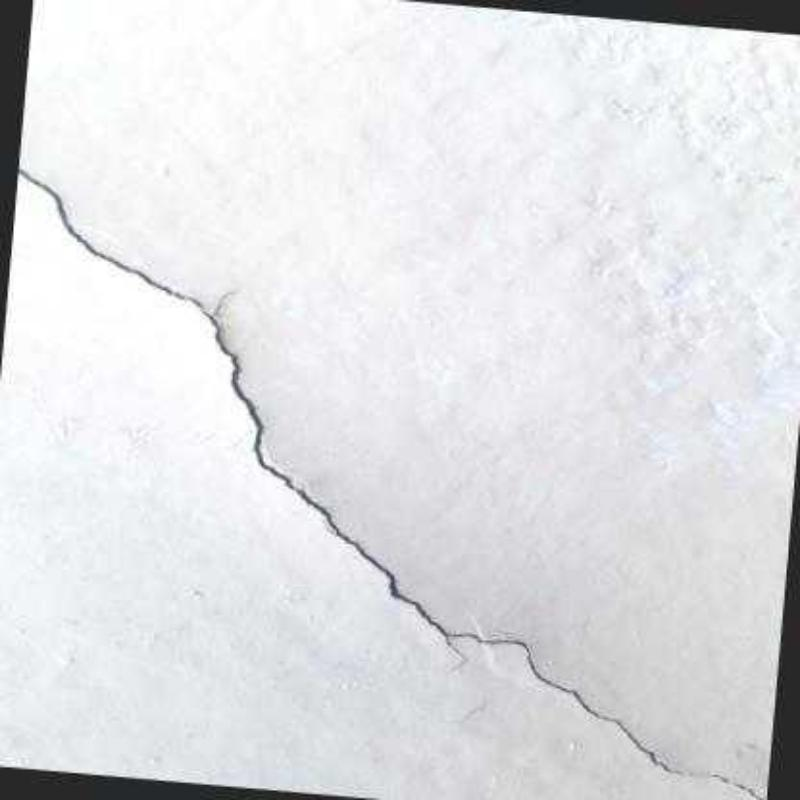pothole: (18, 170, 765, 799)
